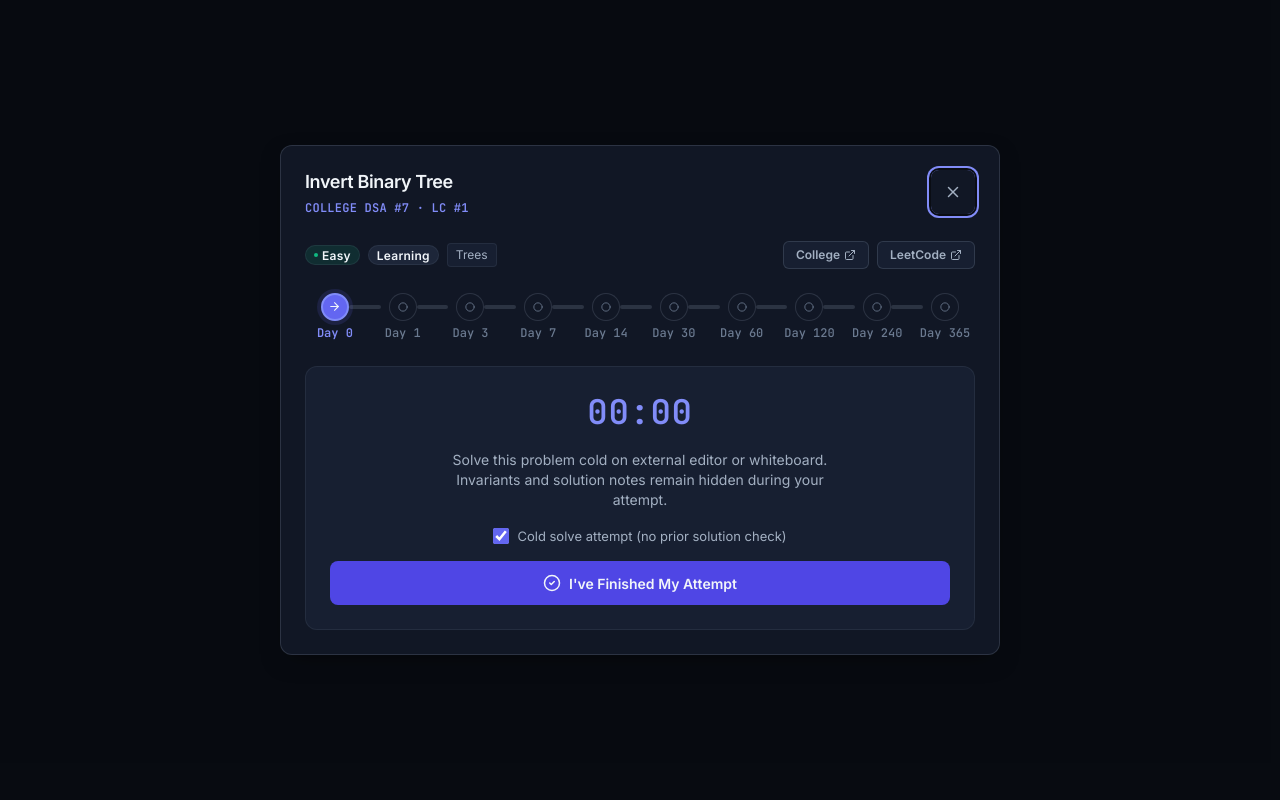
Test case: RecallSessionModal component › submits review rating to API and advances to RESULT step displaying progression
The image size is (1280, 800).
# Finish attempt
Click the button "I've Finished My Attempt" at (640, 583), box left=330, top=561, right=950, bottom=605
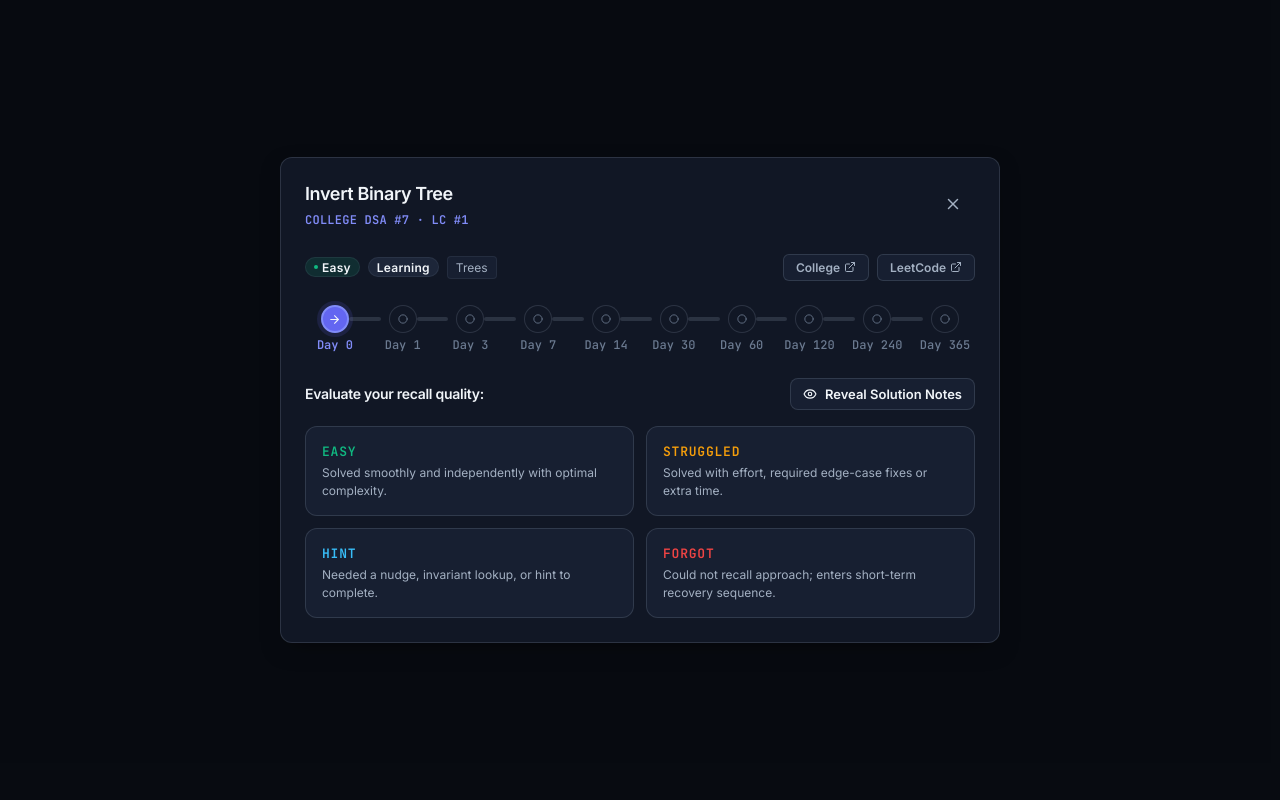
# Select EASY
Click the button "EASY" at (470, 471), box left=305, top=426, right=634, bottom=516
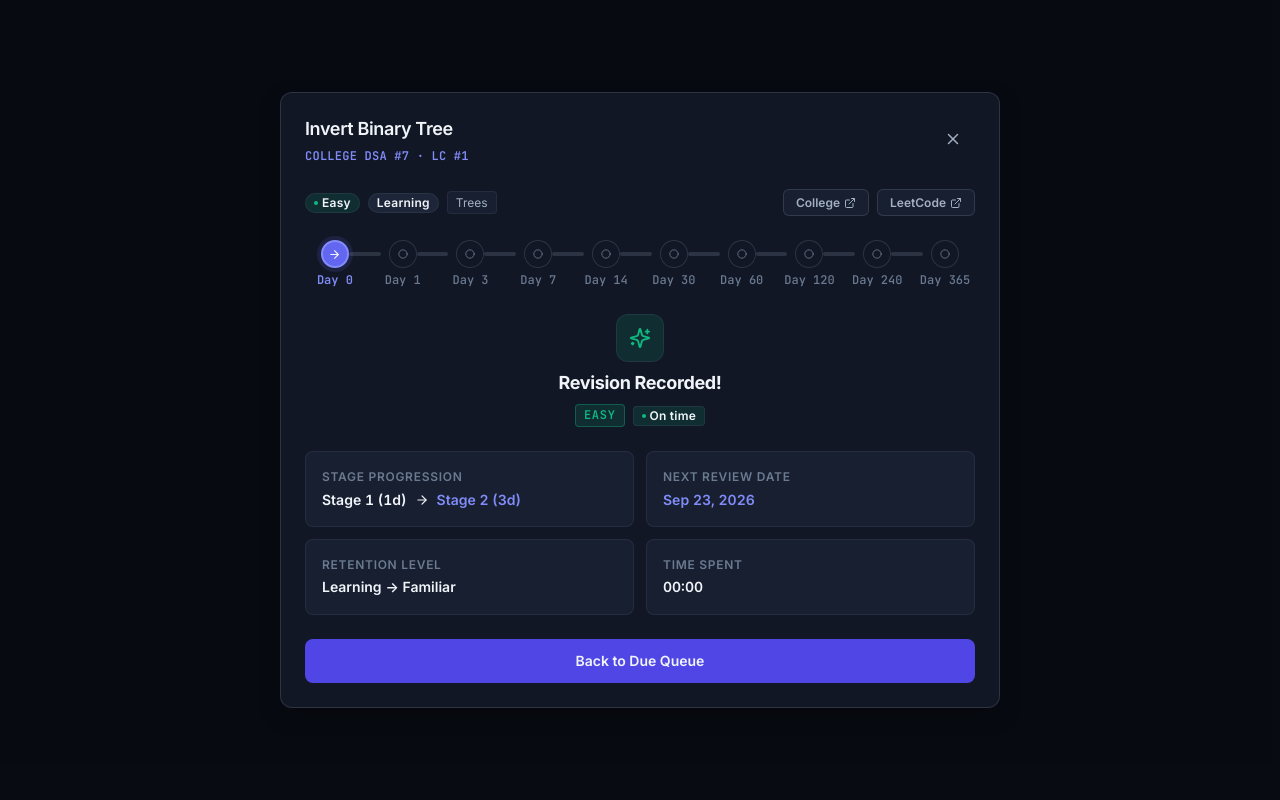
Expected: the heading "Revision Recorded!" is shown, left=558, top=370, right=722, bottom=396
Expected: the text "Stage 1 (1d)" is shown, left=322, top=490, right=406, bottom=510
Expected: the text "Stage 2 (3d)" is shown, left=436, top=490, right=521, bottom=510
